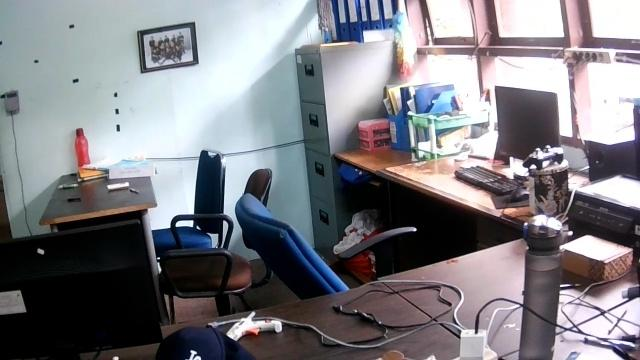Filing Cabinet: (293, 45, 338, 258)
Kursi: (156, 167, 273, 300), (150, 147, 225, 252)
Meja: (36, 143, 158, 231)
